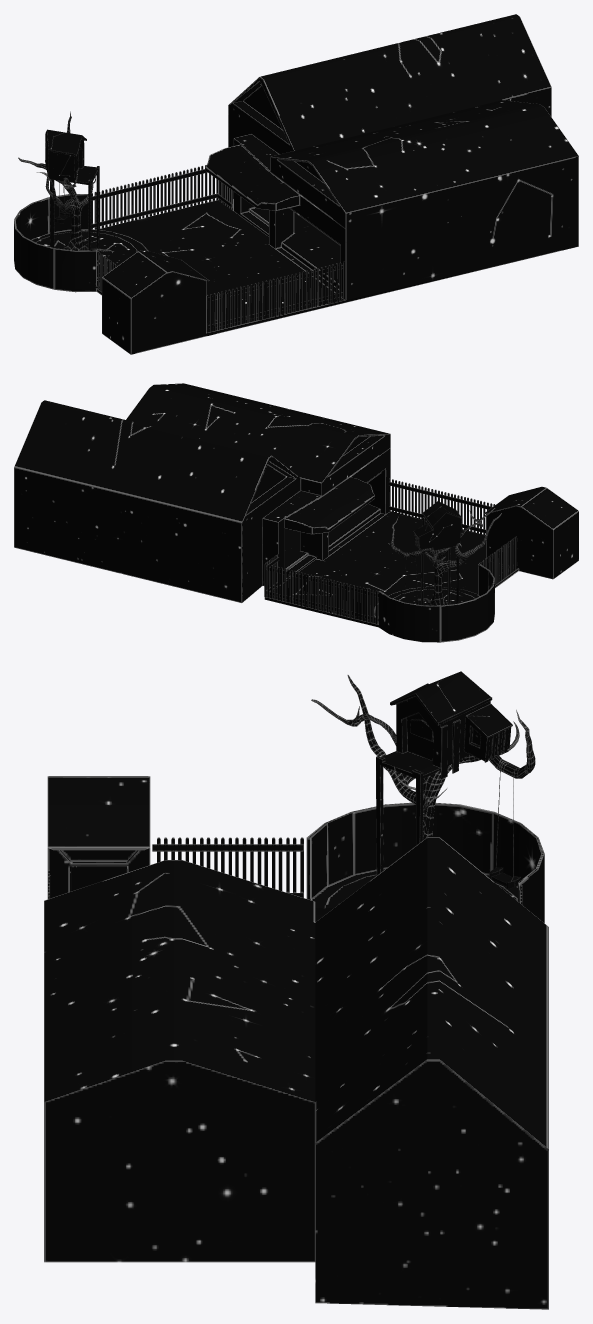
The model's file is textured_level6.FBX.
3 renders of one model, top to bottom at view 1: azimuth 30°, elevation 25°; view 2: azimuth 150°, elevation 25°; view 3: azimuth 270°, elevation 25°, orthographic. The views are drawn at different scales.
Visible parts, largest first — view 1: Cylinder001, fence1, treehouse, tree; view 2: Cylinder001, fence1, treehouse, tree; view 3: Cylinder001, treehouse, fence1, tree, door1.
Boxes of the visible parts, left/top/right/bottom form: Cylinder001: left=14, top=14, right=578, bottom=354; fence1: left=91, top=165, right=344, bottom=332; treehouse: left=45, top=129, right=99, bottom=249; tree: left=18, top=111, right=112, bottom=252; Cylinder001: left=14, top=383, right=578, bottom=642; fence1: left=264, top=478, right=517, bottom=624; treehouse: left=413, top=501, right=462, bottom=605; tree: left=390, top=508, right=501, bottom=605; Cylinder001: left=44, top=776, right=548, bottom=1309; treehouse: left=376, top=671, right=512, bottom=875; fence1: left=48, top=837, right=522, bottom=904; tree: left=311, top=674, right=535, bottom=839; door1: left=70, top=866, right=127, bottom=891.
Size of the model in its own units: 279 by 75.52 by 138.
6 materials, 6 textured.
